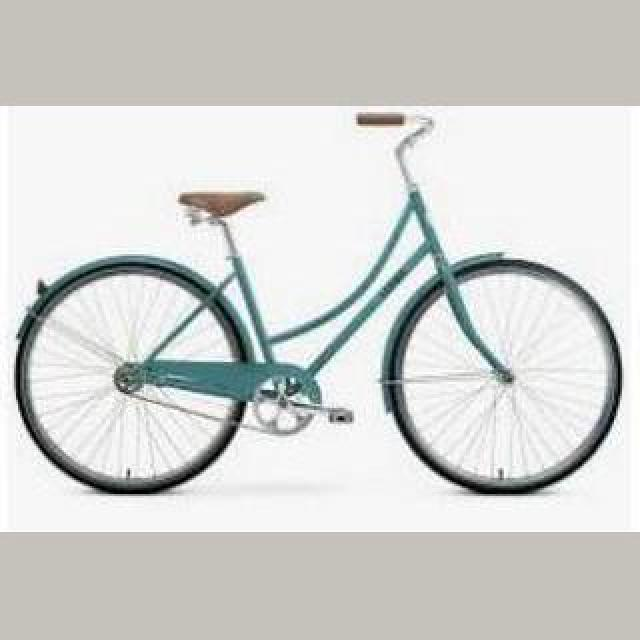Person: (0, 113, 628, 499)
